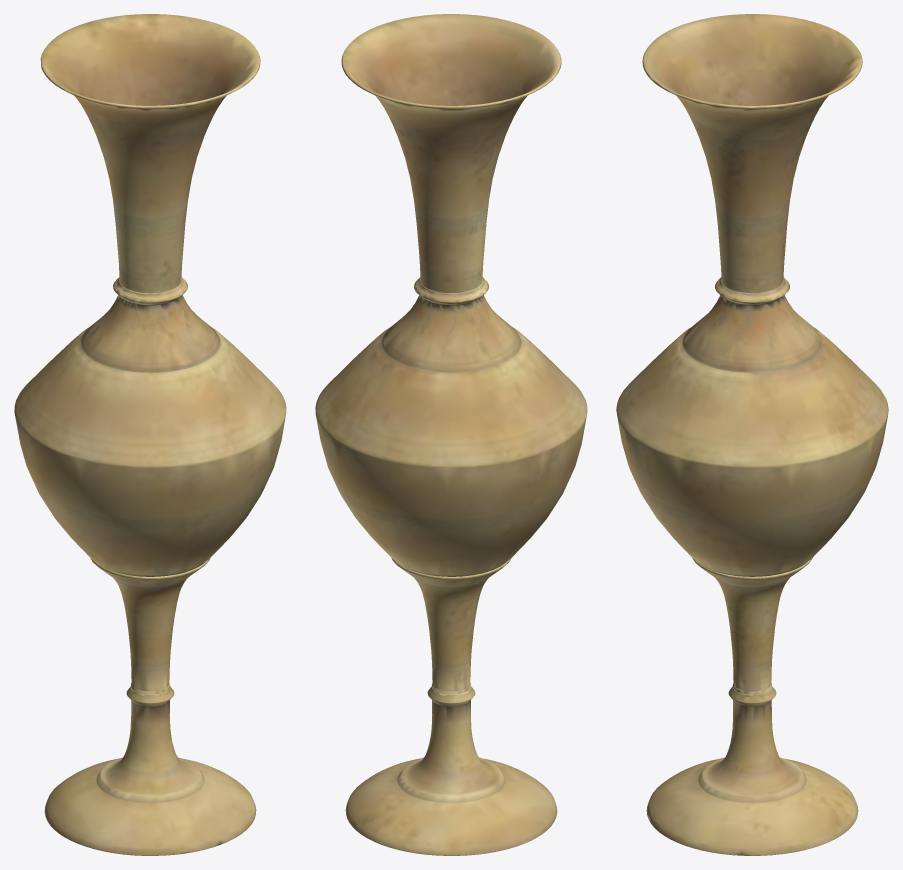
File: vase.glb
3 renders of one model, left to right at view 1: azimuth 30°, elevation 25°; view 2: azimuth 150°, elevation 25°; view 3: azimuth 270°, elevation 25°, orthographic.
Parts seen in each view (by area): view 1: brass_vase_01; view 2: brass_vase_01; view 3: brass_vase_01.
Boxes of the visible parts, left/top/right/bottom form: brass_vase_01: left=14, top=14, right=286, bottom=855; brass_vase_01: left=315, top=14, right=587, bottom=855; brass_vase_01: left=616, top=14, right=888, bottom=855.
Size of the model in its own units: 0.2273 by 0.6925 by 0.2273.
Materials: 1 (1 with a texture image).
